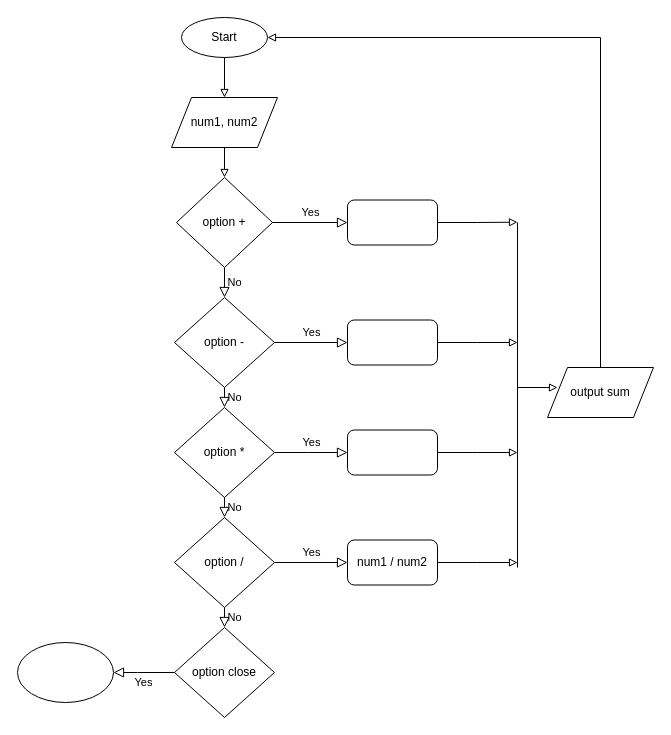
Image size: 671x735. Some labels were removed from this diagram. Here are the shapes that lost their labels. From the top down, the centre of each, then its label:
At pixel 392 222: "num1 + num2".
At pixel 392 342: "num1 - num2".
At pixel 392 452: "num1 * num2".
At pixel 65 672: "End".
